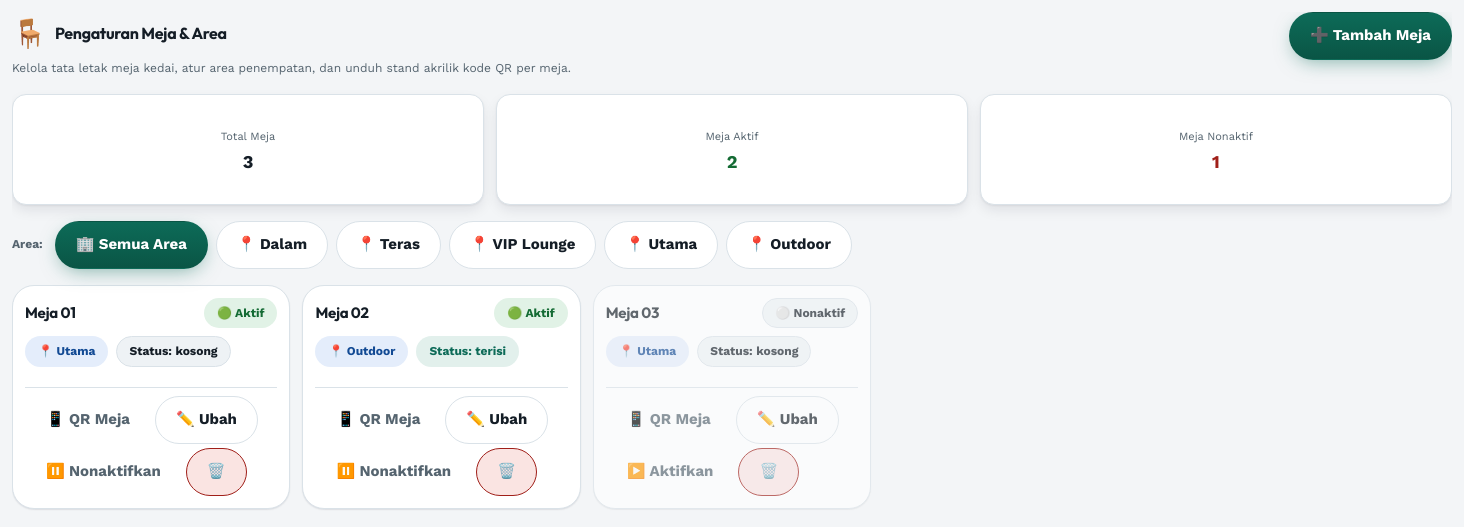
Test: Layar Pengaturan Meja & Area (T9-04) › 2. Menyaring daftar meja berdasarkan filter tab area
Check: the heading "Meja 01" is shown, box left=25, top=304, right=76, bottom=322
Check: the heading "Meja 02" is shown, box left=315, top=304, right=369, bottom=322
# Klik filter "📍 Outdoor"
Click the button with aria-label "Filter area Outdoor": [789, 245] box left=726, top=221, right=852, bottom=269
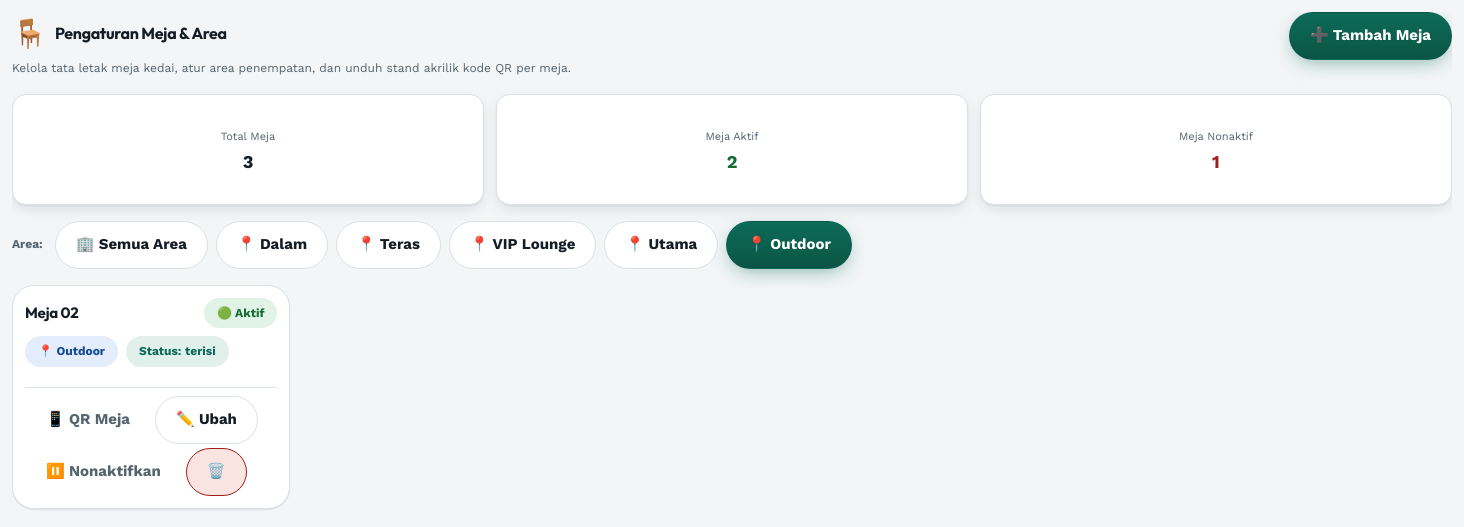
Check: the heading "Meja 02" is shown, box left=25, top=304, right=78, bottom=322
Check: the heading "Meja 01" is gone
